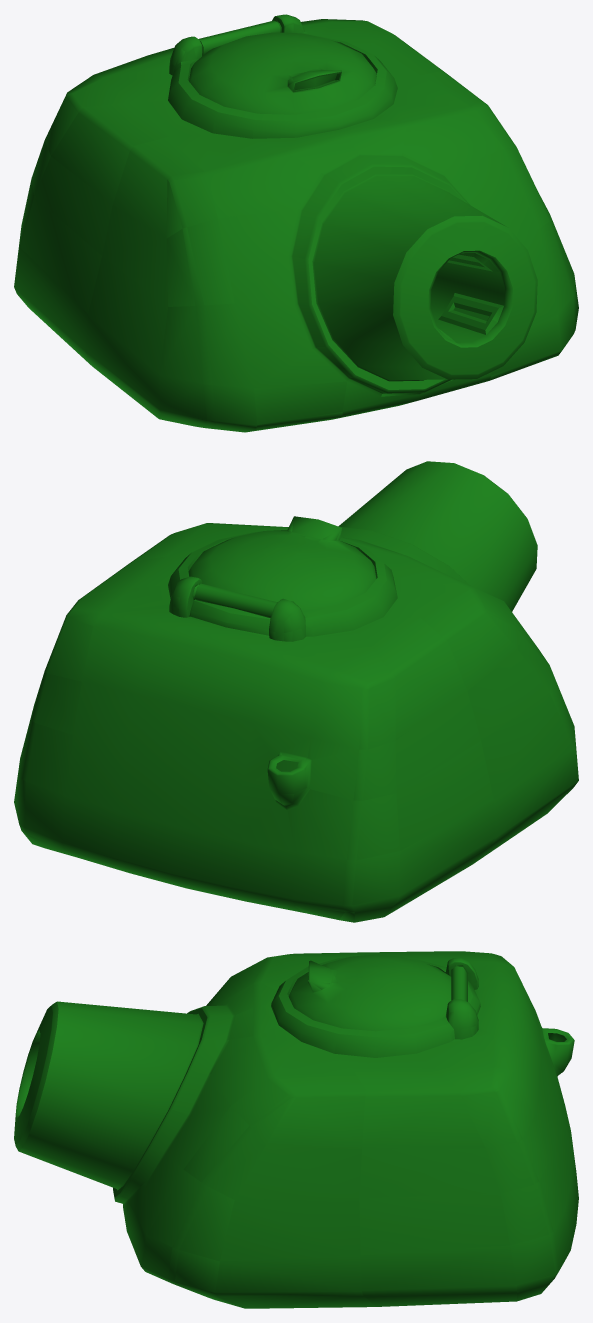
File: TankTurret.obj
The picture shows the model from 3 angles, top to bottom: view 1: azimuth 30°, elevation 25°; view 2: azimuth 150°, elevation 25°; view 3: azimuth 270°, elevation 25°; orthographic projection. The views are drawn at different scales.
Visible parts, largest first — view 1: TankTurret_Untitled.010; view 2: TankTurret_Untitled.010; view 3: TankTurret_Untitled.010.
Part boxes in pixels (x1=…): TankTurret_Untitled.010: x1=14, y1=14, x2=578, y2=432; TankTurret_Untitled.010: x1=14, y1=461, x2=578, y2=922; TankTurret_Untitled.010: x1=14, y1=951, x2=578, y2=1308.
Size of the model in its own units: 1.29 by 0.8573 by 1.63.
